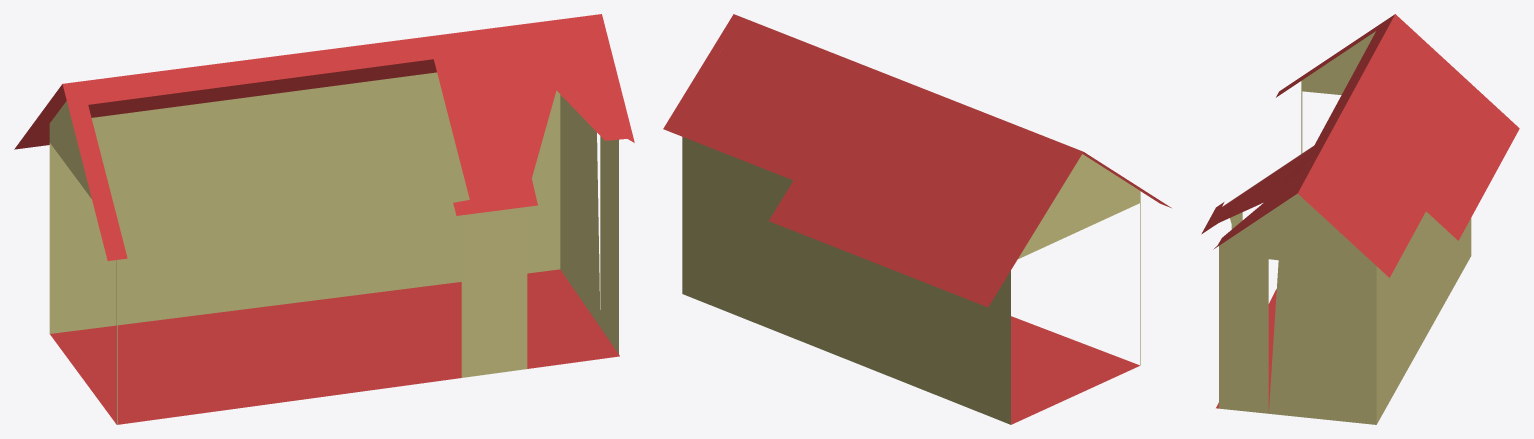
3 views of the same model, side by side, from view 1: azimuth 30°, elevation 25°; view 2: azimuth 150°, elevation 25°; view 3: azimuth 270°, elevation 25° (orthographic). The views are drawn at different scales.
Size of the model in its own units: 29.75 by 20.06 by 15.83.
